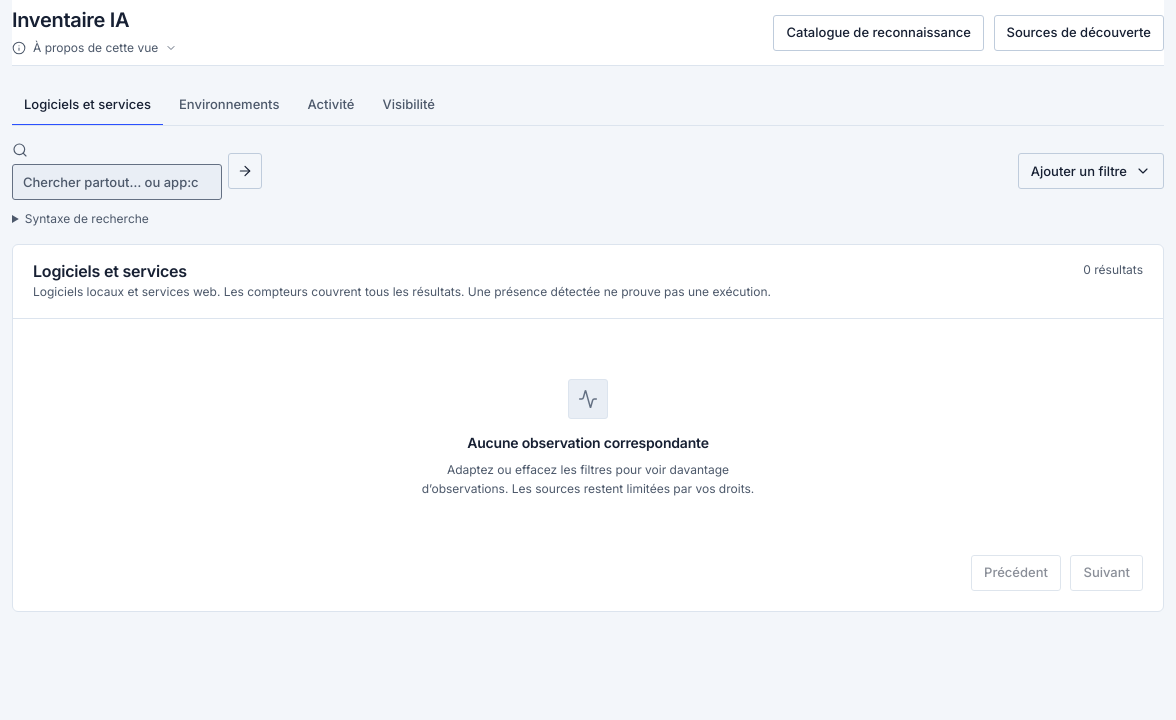
Test: Unified discovery hub › keeps a VM provider connection distinct from an application identification
expect the heading "Aucune observation correspondante" is shown: met, box [467,433,709,453]
Step 1. Click the button "Activité" → click(331, 106), box [295,86,366,126]
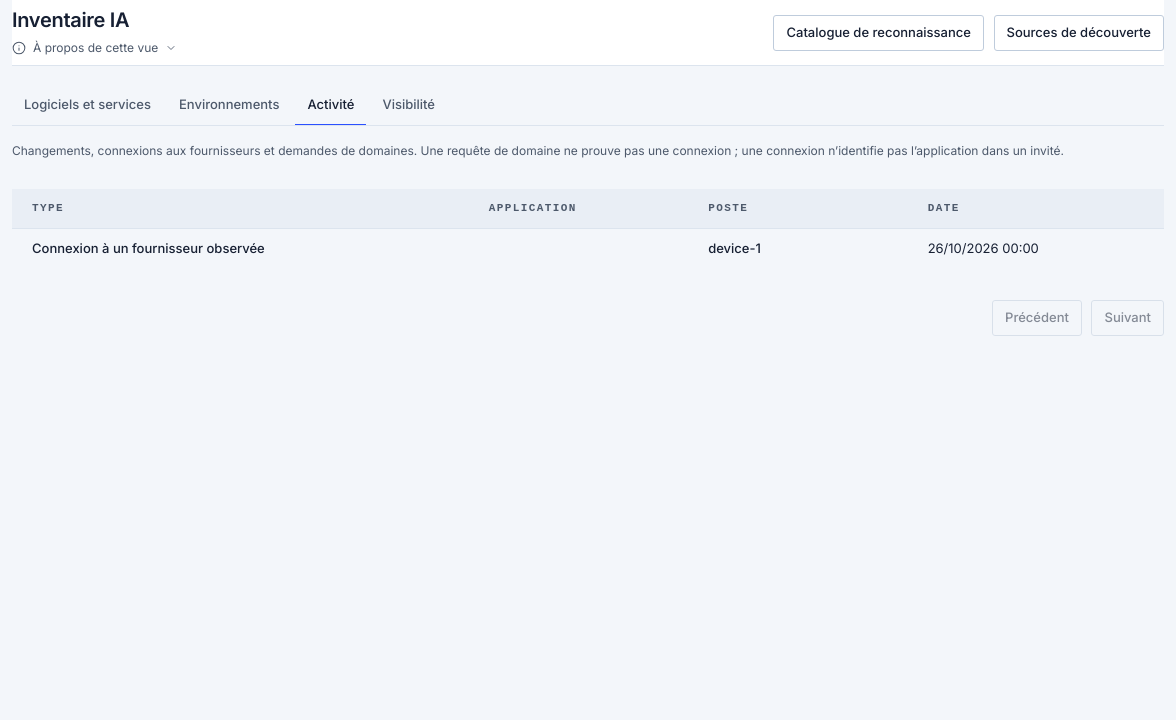
expect the button "Connexion à un fournisseur observée" is shown: met, box [32,239,265,258]
